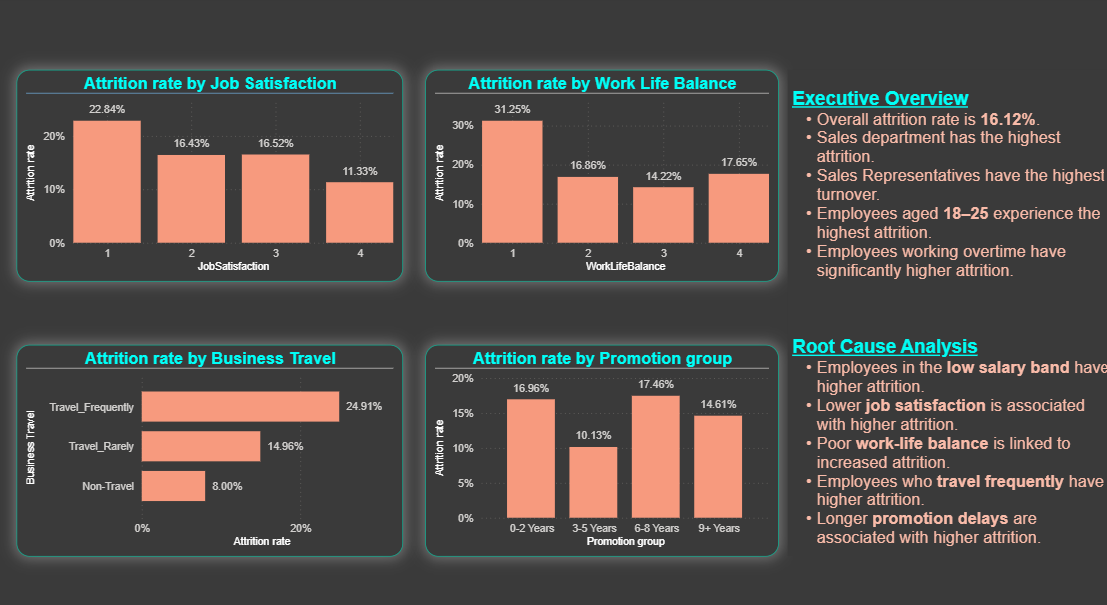

The dashboard page shown, as its layout file describes it:
{"tool":"powerbi","page":{"name":"Attrition Root Cause Analysis","canvas":[1280,720],"ordinal":1},"visuals":[{"type":"clusteredColumnChart","title":"Attrition rate by Job Satisfaction","fields":{"Category":["WA_Fn-UseC_-HR-Employee-Attrition.JobSatisfaction"],"Y":["WA_Fn-UseC_-HR-Employee-Attrition.Attrition rate"]},"box":[20.4,84.4,440.7,241.5],"z":0},{"type":"clusteredColumnChart","title":"Attrition rate by Work Life Balance","fields":{"Category":["WA_Fn-UseC_-HR-Employee-Attrition.WorkLifeBalance"],"Y":["WA_Fn-UseC_-HR-Employee-Attrition.Attrition rate"]},"box":[485.8,84.4,402.9,241.5],"z":1000},{"type":"clusteredBarChart","fields":{"Y":["WA_Fn-UseC_-HR-Employee-Attrition.Attrition rate"],"Category":["WA_Fn-UseC_-HR-Employee-Attrition.Business Travel"]},"box":[20.4,397.1,440.7,241.5],"z":2000},{"type":"clusteredColumnChart","fields":{"Category":["WA_Fn-UseC_-HR-Employee-Attrition.Promotion group"],"Y":["WA_Fn-UseC_-HR-Employee-Attrition.Attrition rate"]},"box":[485.8,397.1,402.9,241.5],"z":3000},{"type":"textbox","box":[898.9,84.4,381.1,554.2],"z":4000}]}

Visuals, with their boxes in screenshot pixels (x1, y1, x2, y2), scaled from the page's 1280x720 canvas onto the 1107x605 screenshot:
"Attrition rate by Job Satisfaction" clusteredColumnChart: rect(18, 71, 399, 274)
"Attrition rate by Work Life Balance" clusteredColumnChart: rect(420, 71, 769, 274)
clusteredBarChart - WA_Fn-UseC_-HR-Employee-Attrition.Attrition rate x WA_Fn-UseC_-HR-Employee-Attrition.Business Travel: rect(18, 334, 399, 537)
clusteredColumnChart - WA_Fn-UseC_-HR-Employee-Attrition.Promotion group x WA_Fn-UseC_-HR-Employee-Attrition.Attrition rate: rect(420, 334, 769, 537)
textbox: rect(777, 71, 1106, 537)
